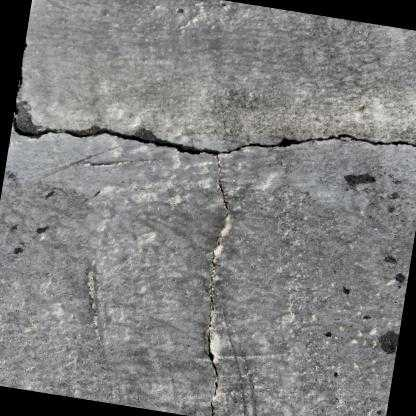crack: (10, 37, 416, 416)
